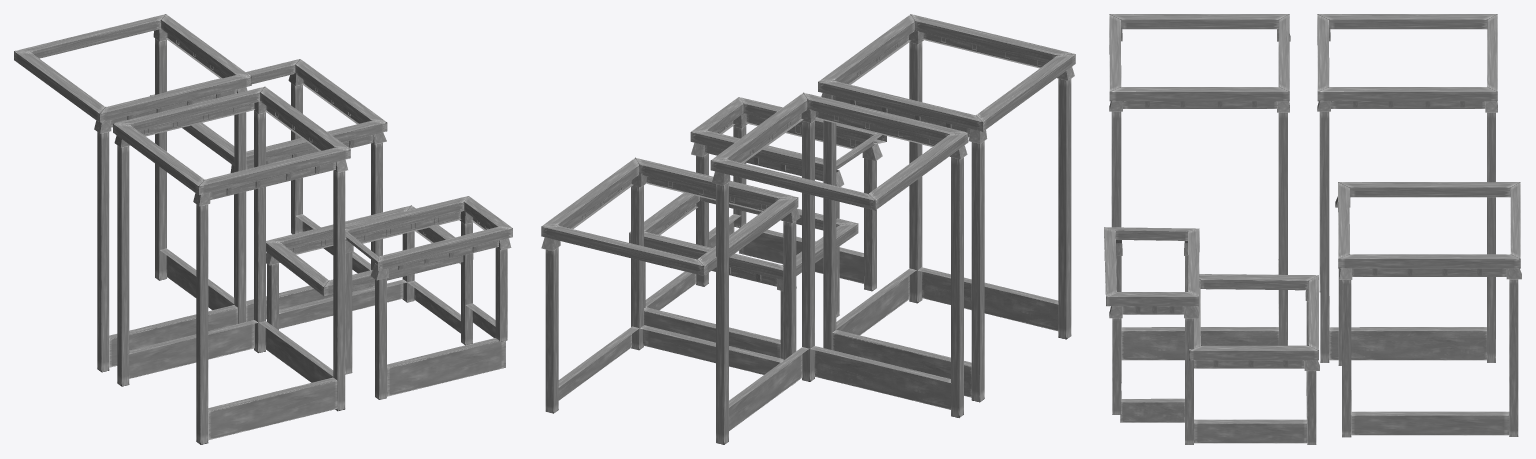
The model's file is SM_ConcreteAccents_02.fbx.
3 renders of one model, left to right at view 1: azimuth 30°, elevation 25°; view 2: azimuth 150°, elevation 25°; view 3: azimuth 270°, elevation 25°, orthographic. The views are drawn at different scales.
Visible parts, largest first — view 1: SM_ConcreteAccents_02; view 2: SM_ConcreteAccents_02; view 3: SM_ConcreteAccents_02.
Boxes of the visible parts, <box> form: SM_ConcreteAccents_02: <box>14,14,512,444</box>; SM_ConcreteAccents_02: <box>541,14,1075,444</box>; SM_ConcreteAccents_02: <box>1104,14,1521,444</box>.
Bounding box in the file's own units: 4901 × 3898 × 5404.
